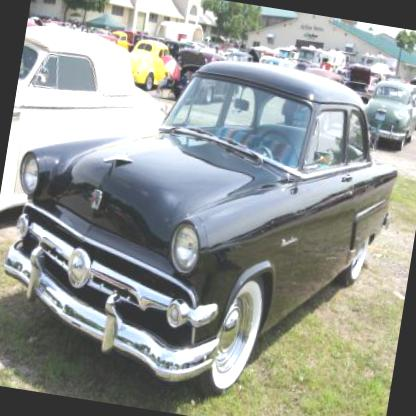car: (0, 30, 414, 415), (0, 20, 179, 278), (347, 77, 415, 155), (166, 46, 241, 112), (124, 37, 178, 90)
